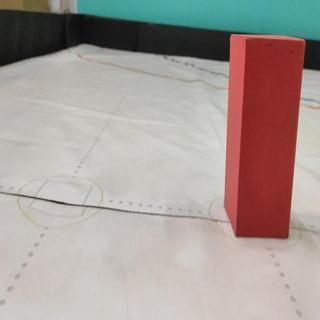redbox: (224, 33, 305, 243)
